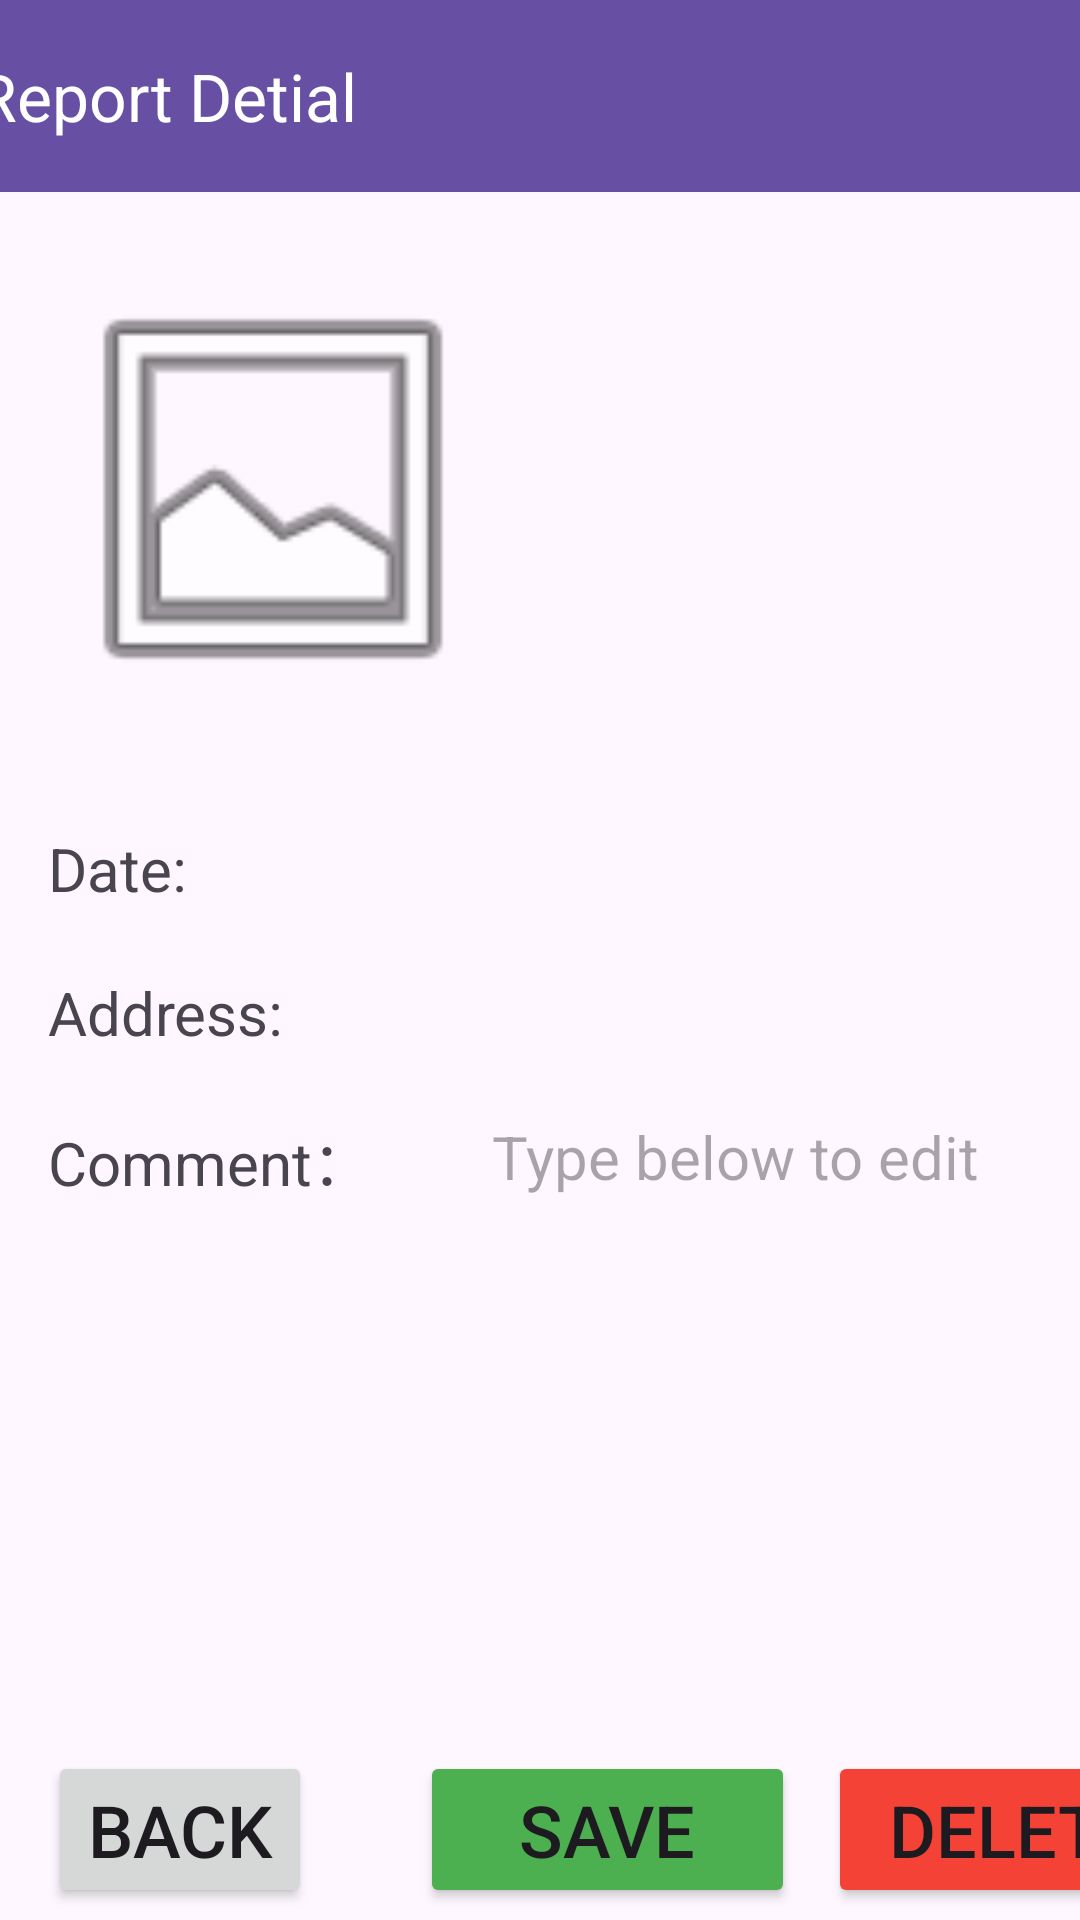

Screen size 1080px x 1920px. Icon name, then its box in pixels as bbox(x1, y1, x2, y2):
gallery: bbox(103, 319, 443, 659)
